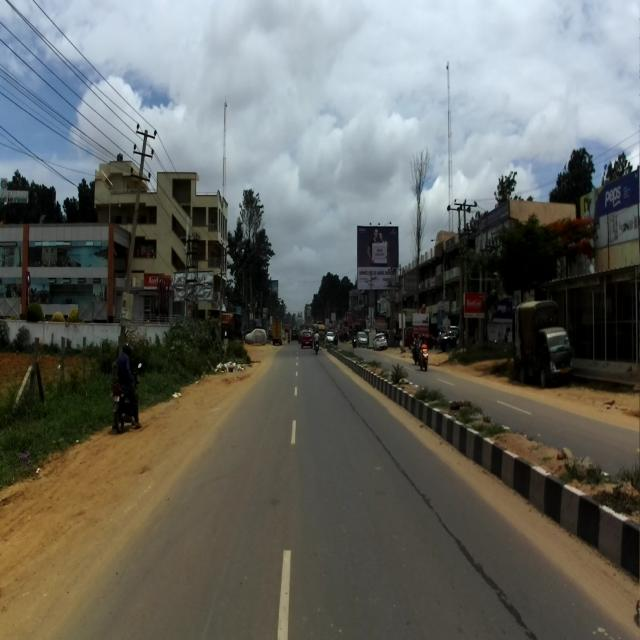motorcycle_Hero: (111, 361, 143, 432)
